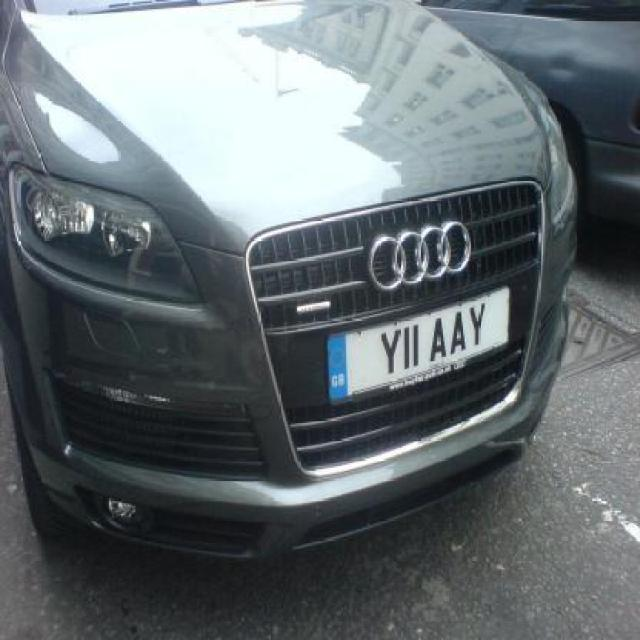Licenseplate: (334, 289, 514, 399)
